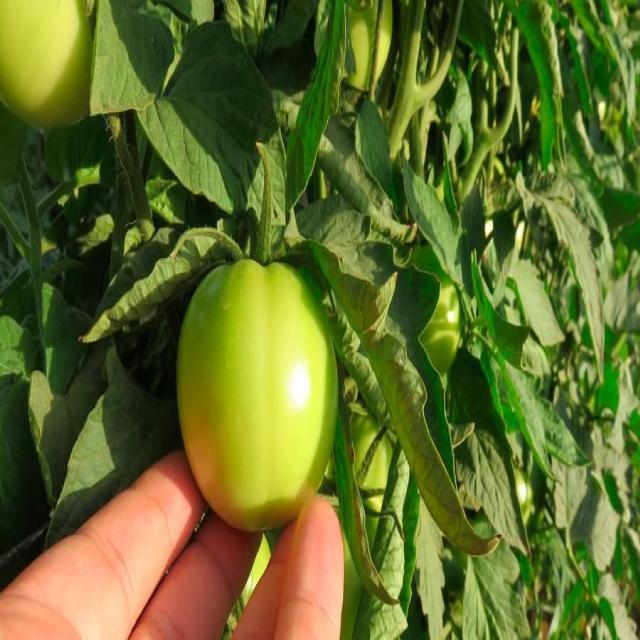level 2: (176, 262, 340, 538), (280, 400, 400, 614), (154, 484, 287, 640), (315, 0, 418, 139), (0, 0, 107, 131), (402, 272, 461, 368)
